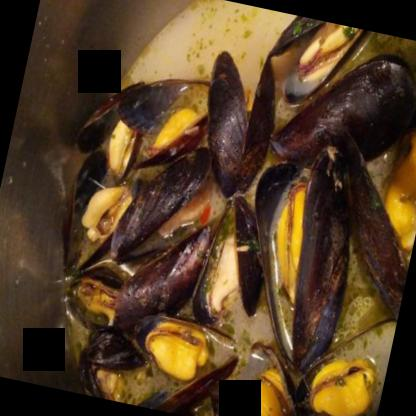mussel: (222, 151, 357, 367), (183, 43, 294, 201), (130, 303, 244, 415)
